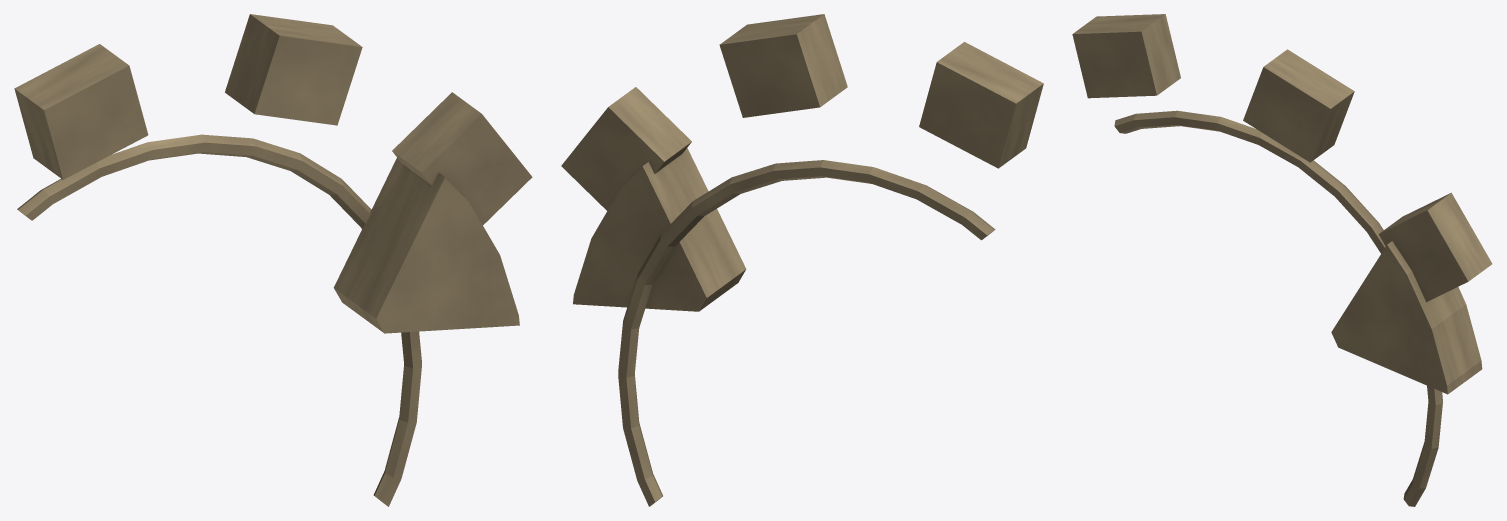
The model's file is BG_Shard_Gear.obj.
The picture shows the model from 3 angles, left to right: view 1: azimuth 30°, elevation 25°; view 2: azimuth 150°, elevation 25°; view 3: azimuth 330°, elevation 25°; orthographic projection. The views are drawn at different scales.
Parts seen in each view (by area): view 1: BG_Shard_Gear; view 2: BG_Shard_Gear; view 3: BG_Shard_Gear.
Boxes of the visible parts, bbox=[...] form: BG_Shard_Gear: bbox=[14, 14, 532, 506]; BG_Shard_Gear: bbox=[561, 14, 1043, 506]; BG_Shard_Gear: bbox=[1072, 14, 1492, 506].
Size of the model in its own units: 0.9424 by 1 by 0.1681.
Materials: 1 (1 with a texture image).
